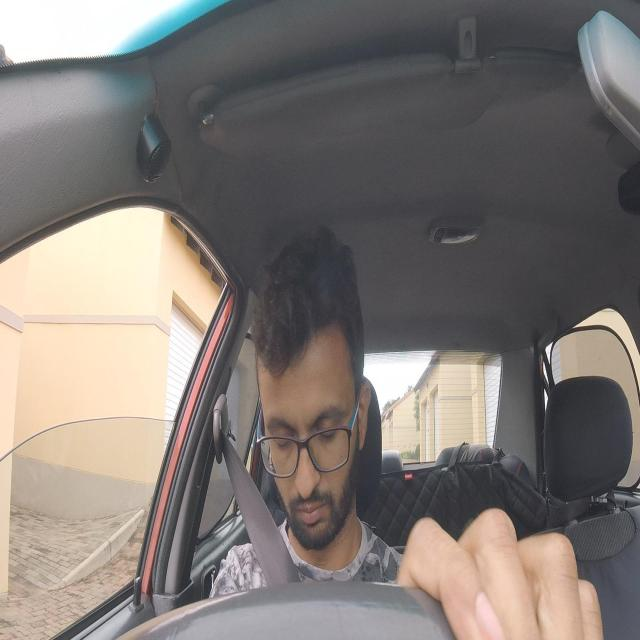close: (266, 407, 298, 455), (310, 403, 344, 442)
